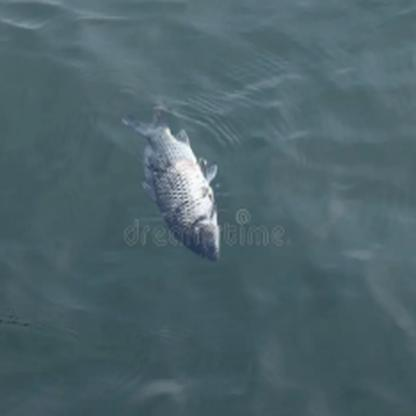deceased fish: (123, 103, 224, 263)
